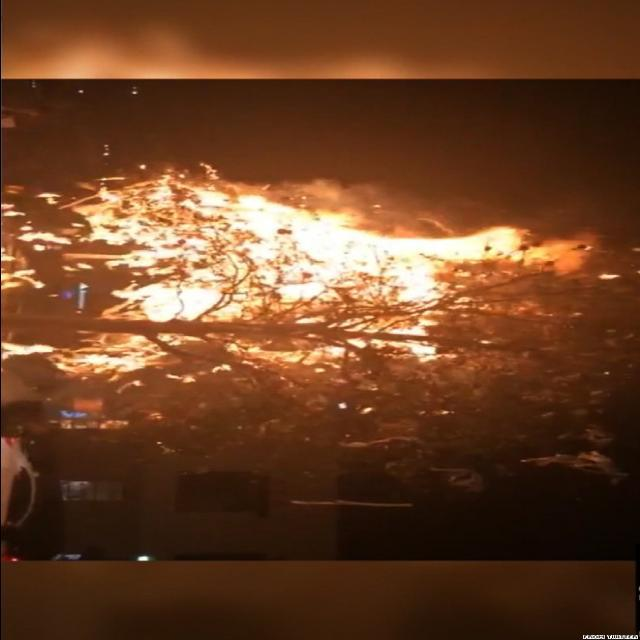Fire: (6, 168, 581, 408)
